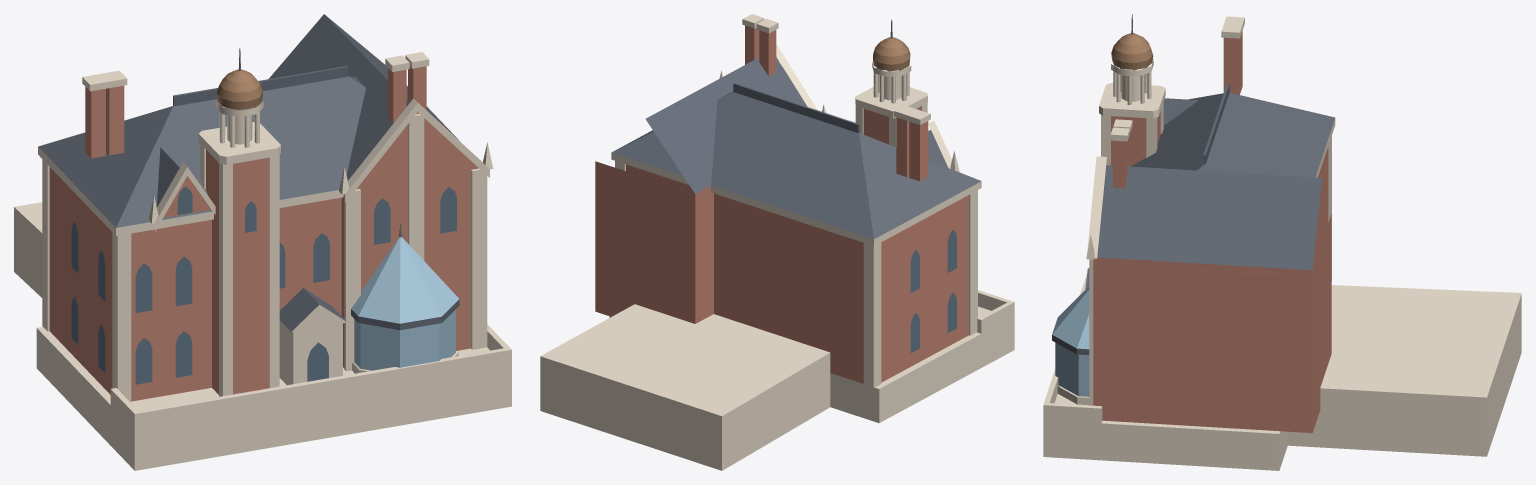
Rendered from detail.glb.
The picture shows the model from 3 angles, left to right: view 1: azimuth 30°, elevation 25°; view 2: azimuth 150°, elevation 25°; view 3: azimuth 270°, elevation 25°; orthographic projection. The views are drawn at different scales.
Visible parts, largest first — view 1: the-haunted-mansion-walt-disney-world; view 2: the-haunted-mansion-walt-disney-world; view 3: the-haunted-mansion-walt-disney-world.
Part boxes in pixels (x1=…): the-haunted-mansion-walt-disney-world: x1=14, y1=14, x2=511, y2=470; the-haunted-mansion-walt-disney-world: x1=540, y1=14, x2=1014, y2=470; the-haunted-mansion-walt-disney-world: x1=1043, y1=14, x2=1521, y2=470.
Size of the model in its own units: 24.51 by 23.2 by 29.3.
